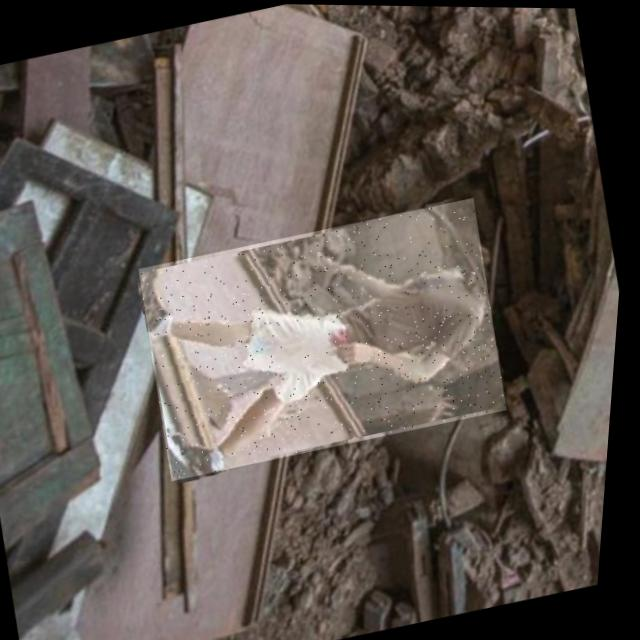Person in Rubble: (129, 192, 524, 484)
